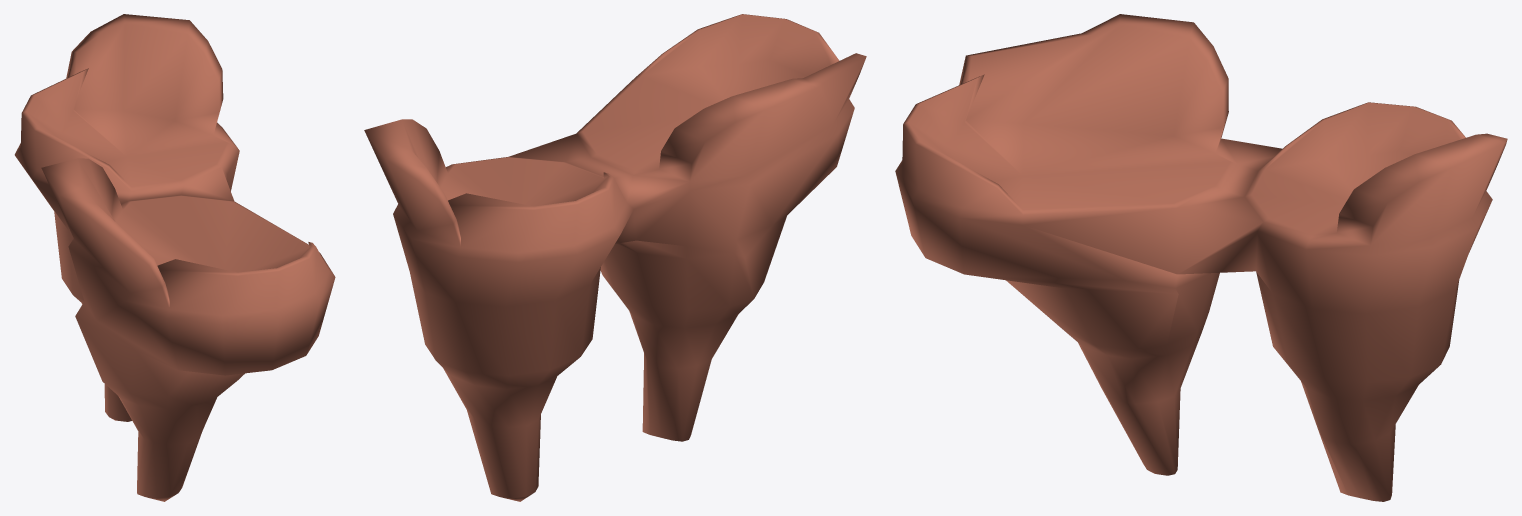
Rendered from TwinIslands.fbx.
The picture shows the model from 3 angles, left to right: view 1: azimuth 30°, elevation 25°; view 2: azimuth 150°, elevation 25°; view 3: azimuth 270°, elevation 25°; orthographic projection. The views are drawn at different scales.
Visible parts, largest first — view 1: TwinIslands; view 2: TwinIslands; view 3: TwinIslands.
Boxes of the visible parts, left/top/right/bottom form: TwinIslands: left=14, top=14, right=335, bottom=501; TwinIslands: left=364, top=14, right=866, bottom=501; TwinIslands: left=895, top=14, right=1507, bottom=501.
Bounding box in the file's own units: 1162 × 1377 × 1931.
